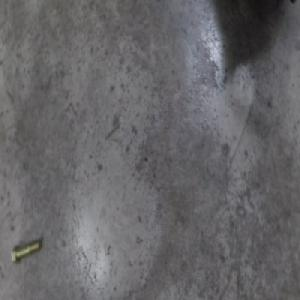Bolt: (14, 236, 43, 262)
